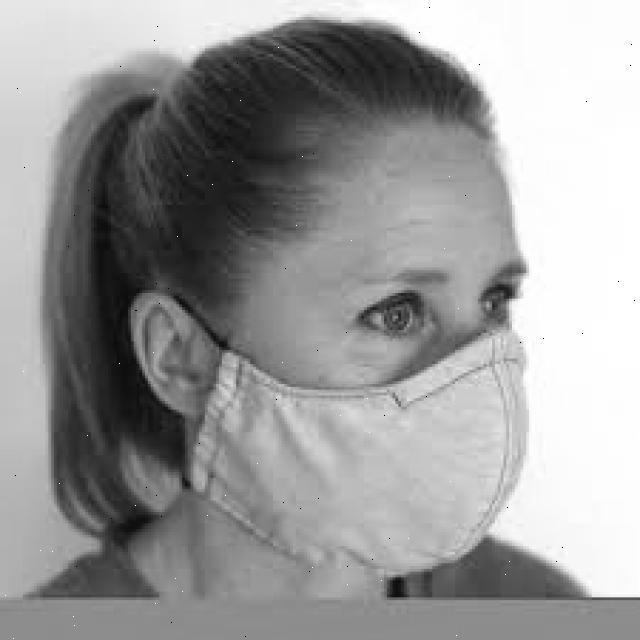fake: (160, 291, 557, 582)
real: (244, 116, 525, 581)
